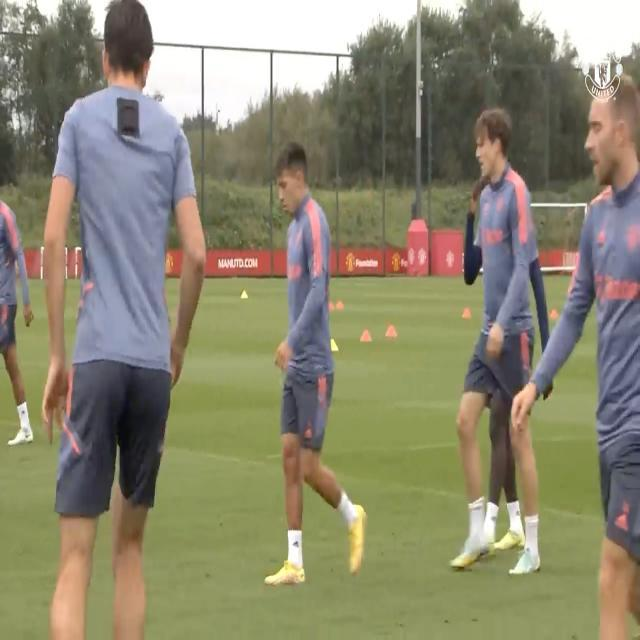Adidas: (615, 511, 628, 531), (293, 533, 302, 550)
